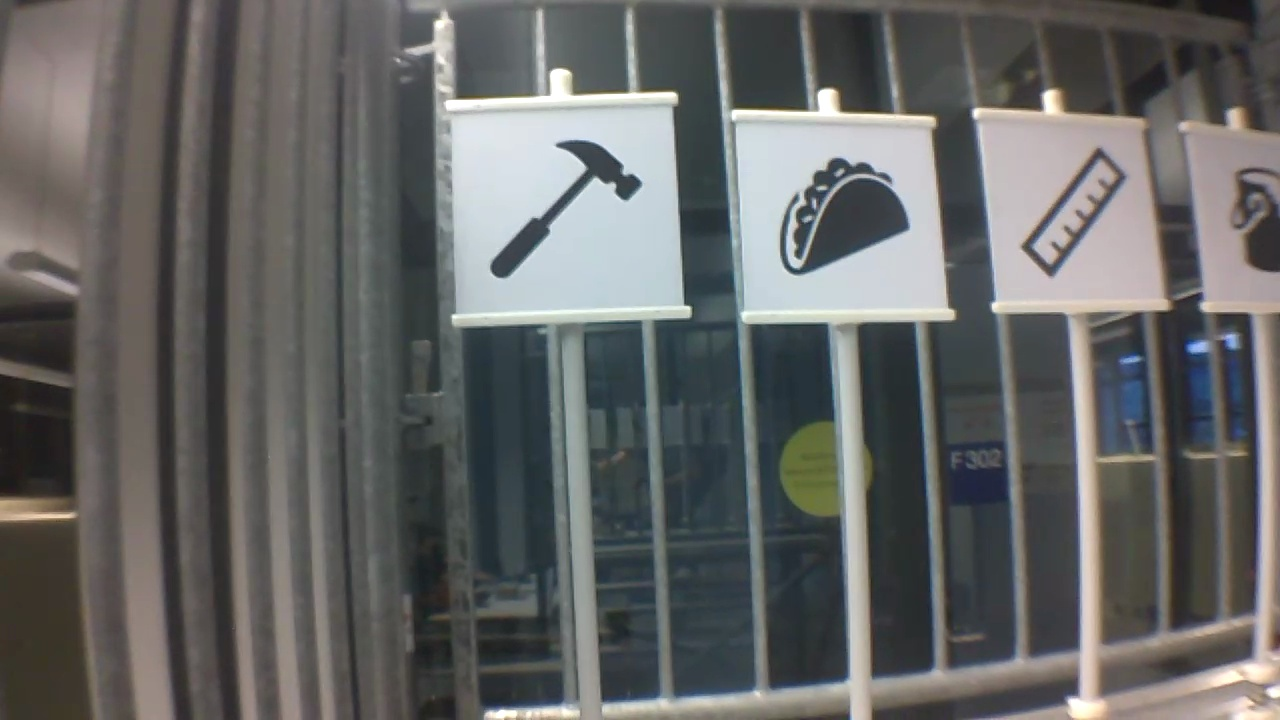bucket: (1223, 162, 1280, 276)
hammer: (479, 133, 644, 283)
ruler: (1015, 138, 1132, 282)
taco: (773, 150, 915, 277)
